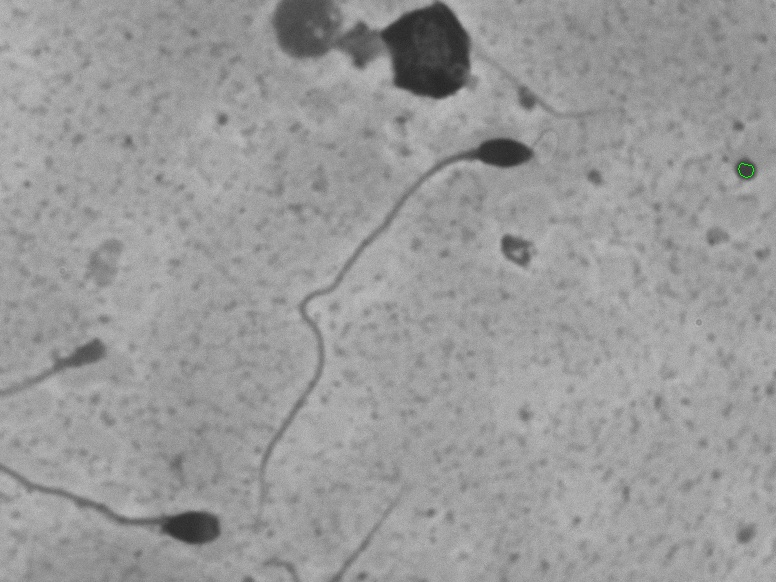Abnormal: (238, 110, 545, 546)
